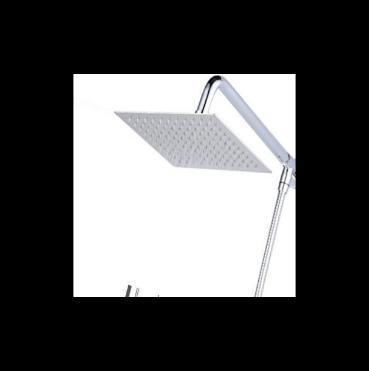Ducha: (114, 82, 295, 297)
